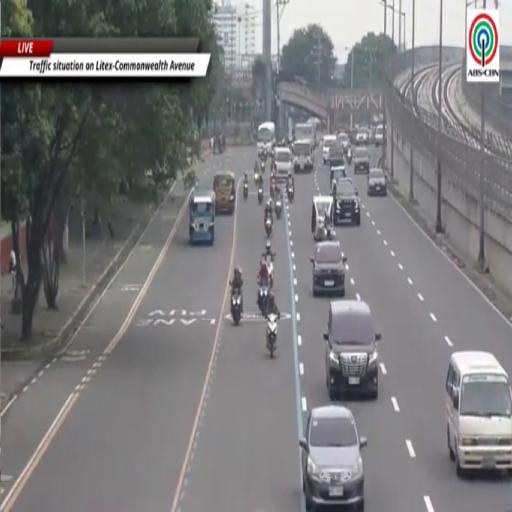bus: (189, 191, 215, 245), (257, 122, 275, 154)
car: (300, 405, 367, 511), (324, 300, 381, 399), (311, 240, 347, 296), (333, 181, 360, 226), (311, 196, 334, 241), (274, 147, 293, 182), (293, 140, 313, 173), (367, 168, 387, 196), (322, 135, 336, 164), (354, 147, 369, 173), (329, 142, 344, 166), (337, 133, 351, 154), (330, 165, 346, 182), (374, 124, 385, 146), (355, 130, 369, 145), (338, 176, 353, 184)
motorcycle: (267, 313, 278, 358), (314, 223, 335, 242), (231, 291, 241, 325), (258, 285, 269, 315), (314, 219, 326, 242), (267, 261, 273, 287), (265, 217, 272, 237), (275, 200, 282, 219), (326, 227, 335, 241), (287, 186, 294, 202), (346, 148, 352, 164), (258, 185, 263, 204), (331, 180, 336, 199), (243, 183, 248, 200), (270, 182, 275, 198), (261, 160, 265, 173)
